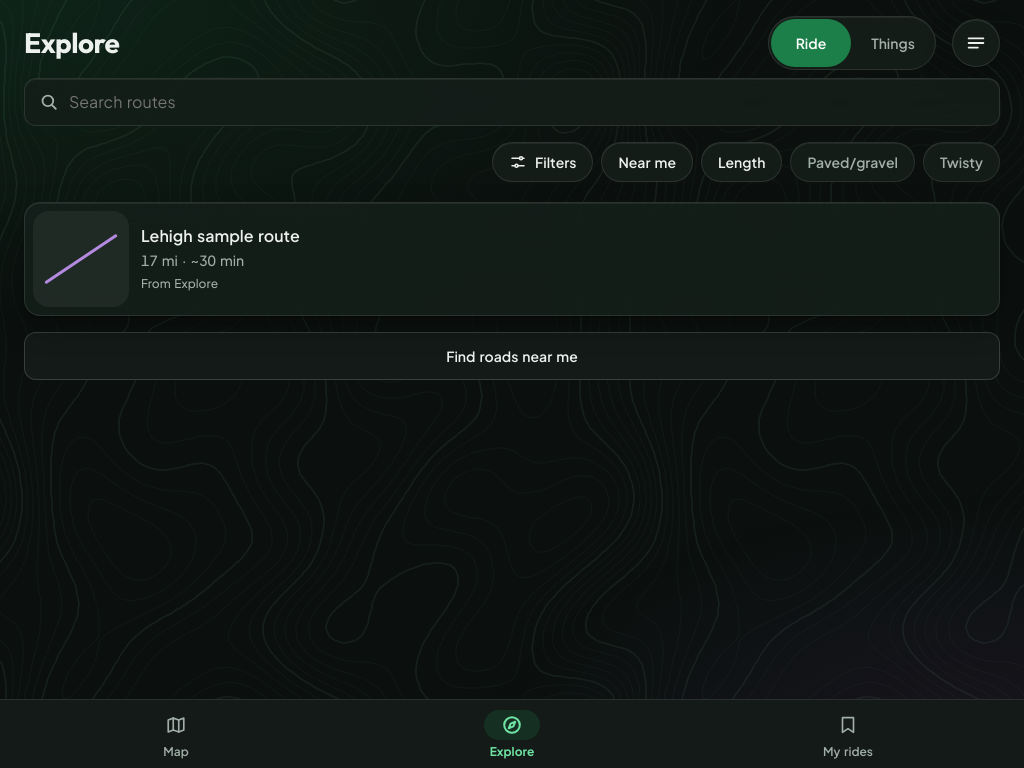
Test case: Explore UI › filters by length in one tap from the chip, and Escape closes the sheet
Click the button "Length".
click(742, 162)  # box [701,142,782,182]
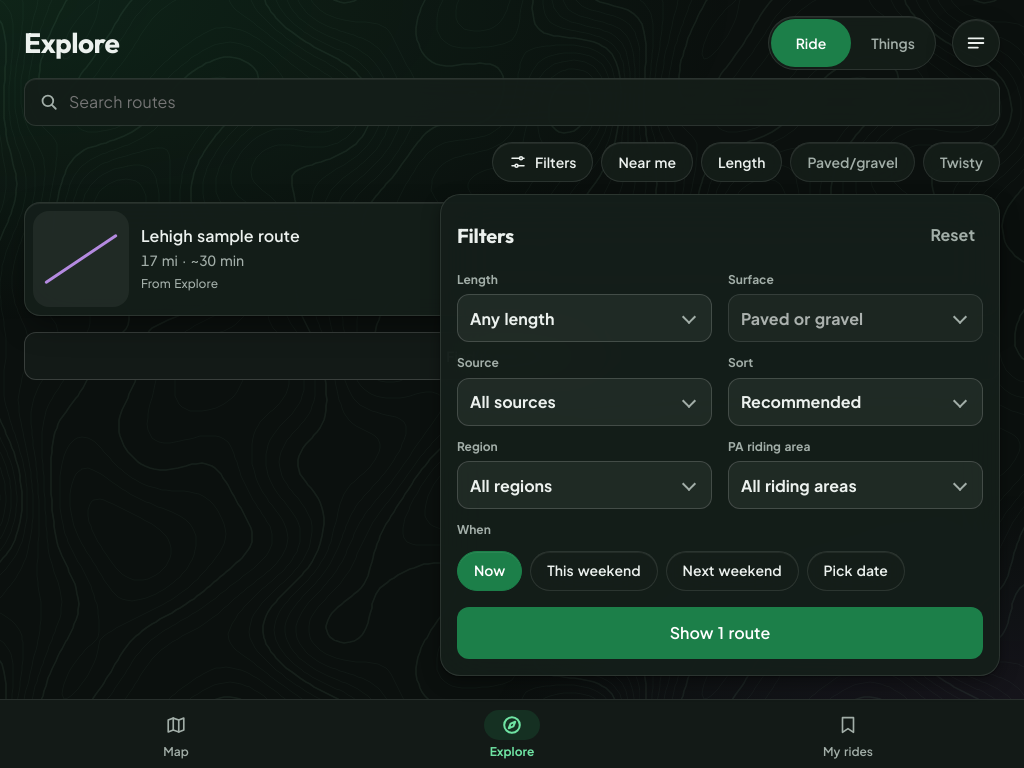
Select "Under 30 mi" in the dropdown named "Filter by distance" at (584,318), box [457,294,712,342]
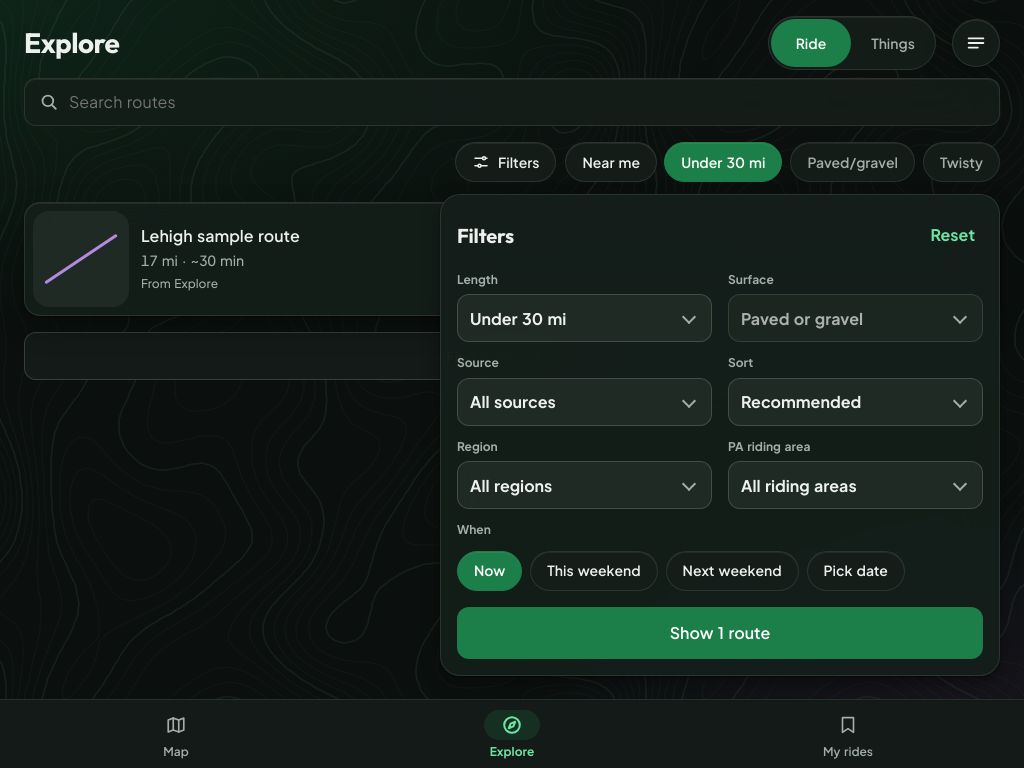
expect the button "Filters" is expanded: met, box [455,142,557,182]
Click the button "Reset".
click(953, 235)  # box [922,211,983,259]
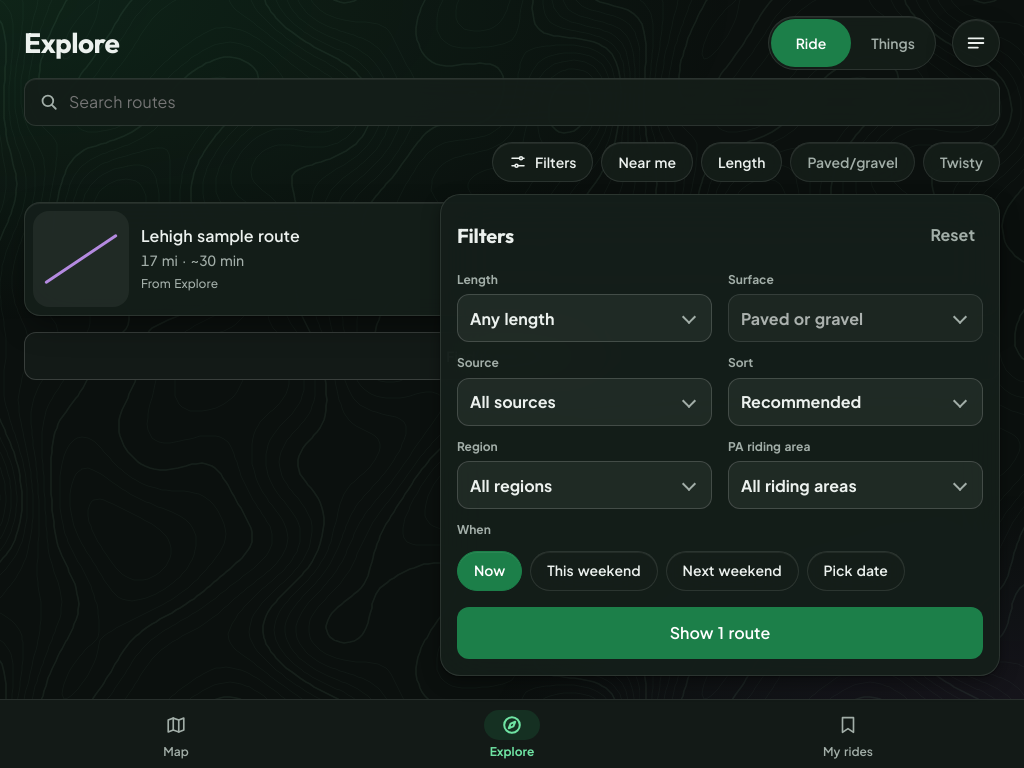
expect the button "Length" is shown: met, box [701,142,782,182]
Press Escape
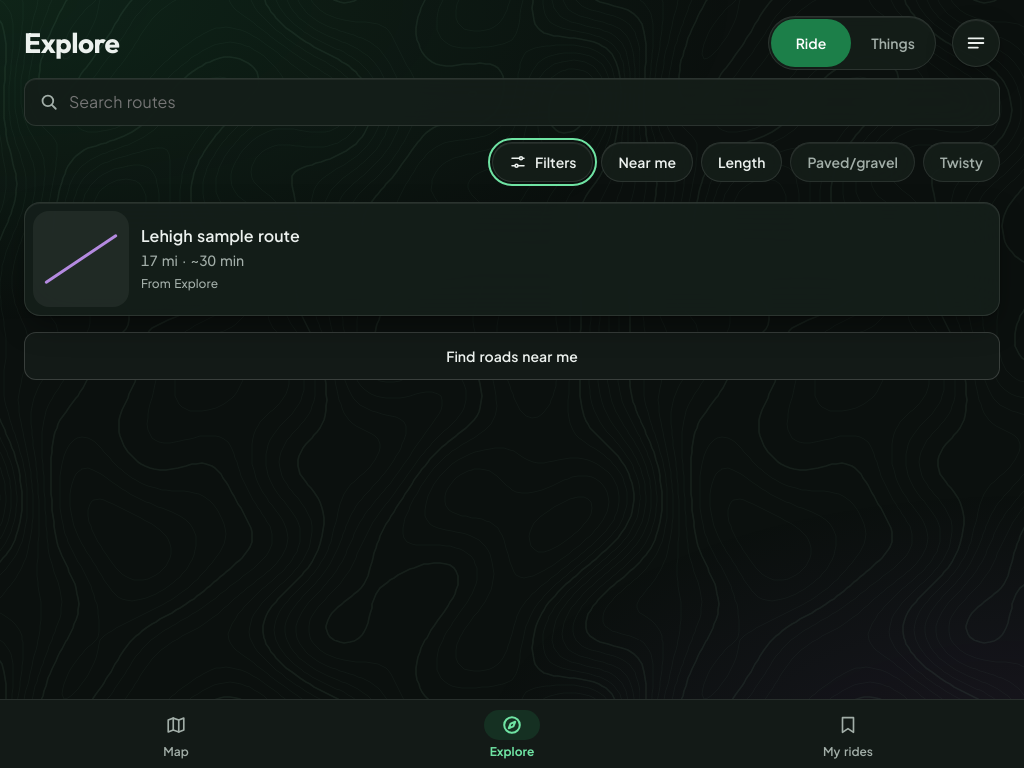
expect the button "Filters" is collapsed: met, box [492,142,594,182]
